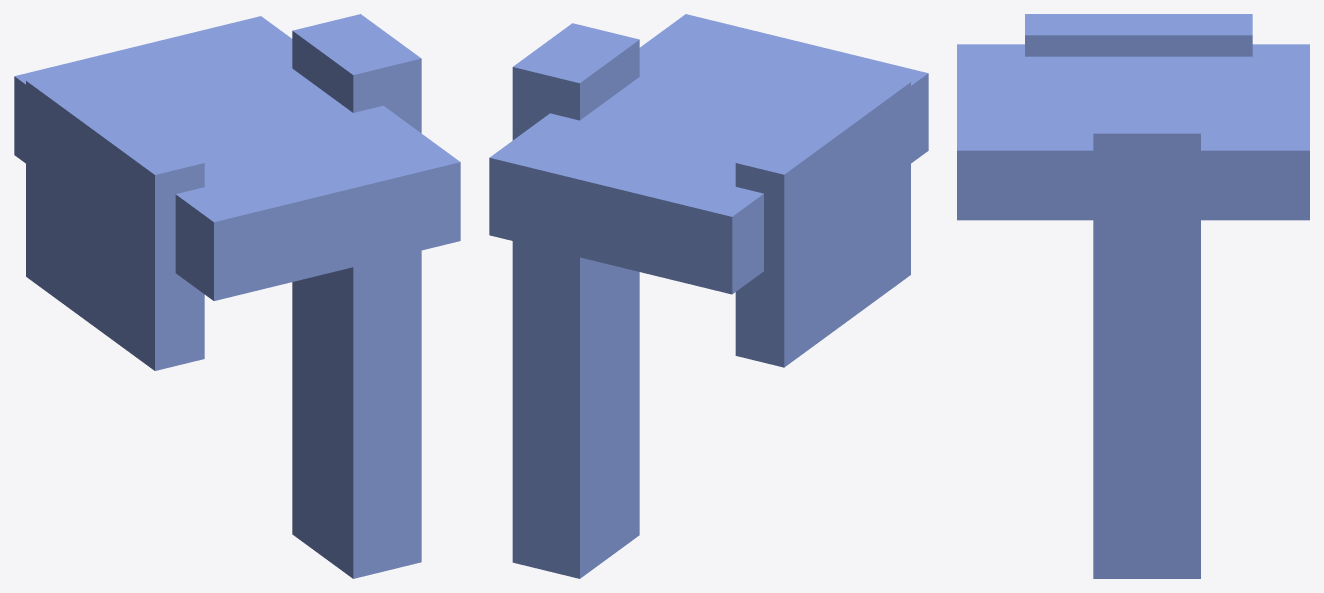
Rendered from floor4.fbx.
3 views of the same model, side by side, from view 1: azimuth 30°, elevation 25°; view 2: azimuth 150°, elevation 25°; view 3: azimuth 270°, elevation 25° (orthographic). The views are drawn at different scales.
Visible parts, largest first — view 1: Cube.012, Cube.011, Cube.014; view 2: Cube.012, Cube.011, Cube.014; view 3: Cube.011, Cube.012, Cube.014.
Boxes of the visible parts, x1,y1,x2,y2 form: Cube.012: (14, 16, 460, 300); Cube.011: (292, 14, 421, 578); Cube.014: (26, 68, 204, 370); Cube.012: (489, 14, 928, 294); Cube.011: (512, 23, 639, 578); Cube.014: (735, 70, 910, 367); Cube.011: (1093, 104, 1200, 578); Cube.012: (957, 44, 1309, 220); Cube.014: (1025, 14, 1252, 56).
Bounding box in the file's own units: 88.34 × 139 × 100.
